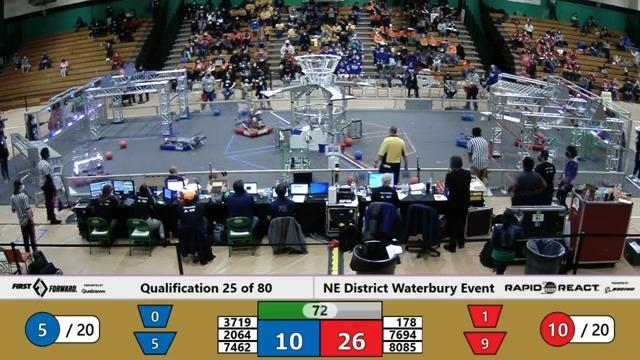robot: (223, 95, 275, 142), (63, 143, 112, 188), (272, 142, 315, 193), (449, 114, 497, 152), (510, 112, 553, 154), (157, 129, 209, 155)
